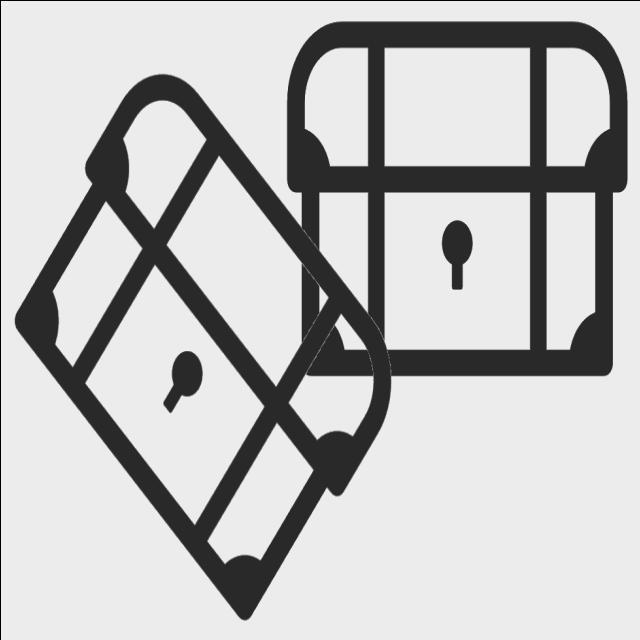treasure_box: (7, 63, 399, 629), (278, 13, 633, 387)
